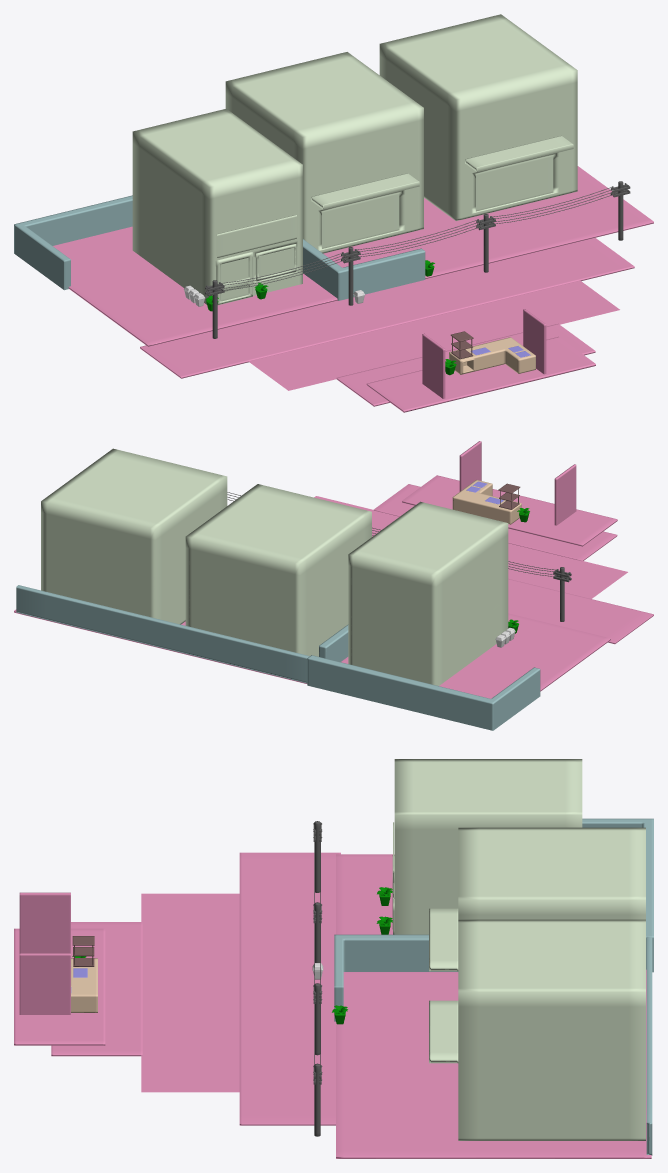
File: Somtum.fbx
The picture shows the model from 3 angles, top to bottom: view 1: azimuth 30°, elevation 25°; view 2: azimuth 150°, elevation 25°; view 3: azimuth 270°, elevation 25°; orthographic projection. The views are drawn at different scales.
Visible parts, largest first — view 1: Building, StreetAndShelter, Wall_01, Pole_01, Counter_001; view 2: Building, StreetAndShelter, Wall_01, Counter_001, Pole_01; view 3: StreetAndShelter, Building, Wall_01, Pole_01, Counter_001, Plant, Shelf_001.
Boxes of the visible parts, left/top/right/bottom form: Building: left=132, top=14, right=577, bottom=305; StreetAndShelter: left=53, top=166, right=653, bottom=412; Wall_01: left=14, top=195, right=425, bottom=300; Pole_01: left=205, top=181, right=630, bottom=338; Counter_001: left=449, top=337, right=535, bottom=374; Building: left=41, top=448, right=508, bottom=685; StreetAndShelter: left=14, top=441, right=653, bottom=698; Wall_01: left=16, top=585, right=540, bottom=730; Counter_001: left=452, top=480, right=521, bottom=524; Pole_01: left=227, top=492, right=571, bottom=621; StreetAndShelter: left=14, top=852, right=651, bottom=1158; Building: left=392, top=759, right=645, bottom=1140; Wall_01: left=334, top=818, right=653, bottom=1155; Pole_01: left=313, top=821, right=322, bottom=1136; Counter_001: left=71, top=958, right=97, bottom=1012; Plant: left=72, top=887, right=392, bottom=1024; Shelf_001: left=72, top=936, right=94, bottom=966.
Size of the model in its own units: 82.28 by 19.14 by 72.68.
